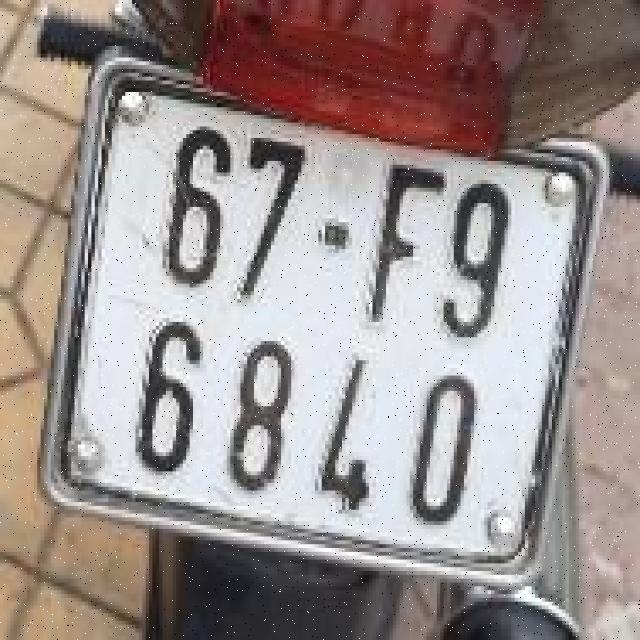0: (403, 364, 501, 556)
4: (308, 345, 390, 540)
6: (152, 115, 237, 303), (129, 309, 203, 500)
7: (237, 122, 315, 306)
8: (210, 312, 305, 523)
9: (442, 153, 516, 345)
F: (359, 149, 447, 349)
